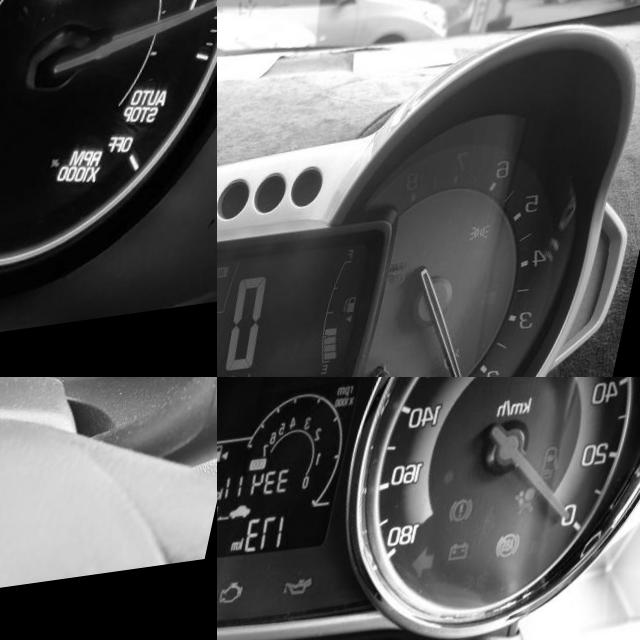Doors: (557, 458, 582, 493)
SideLamp: (482, 237, 505, 256)
